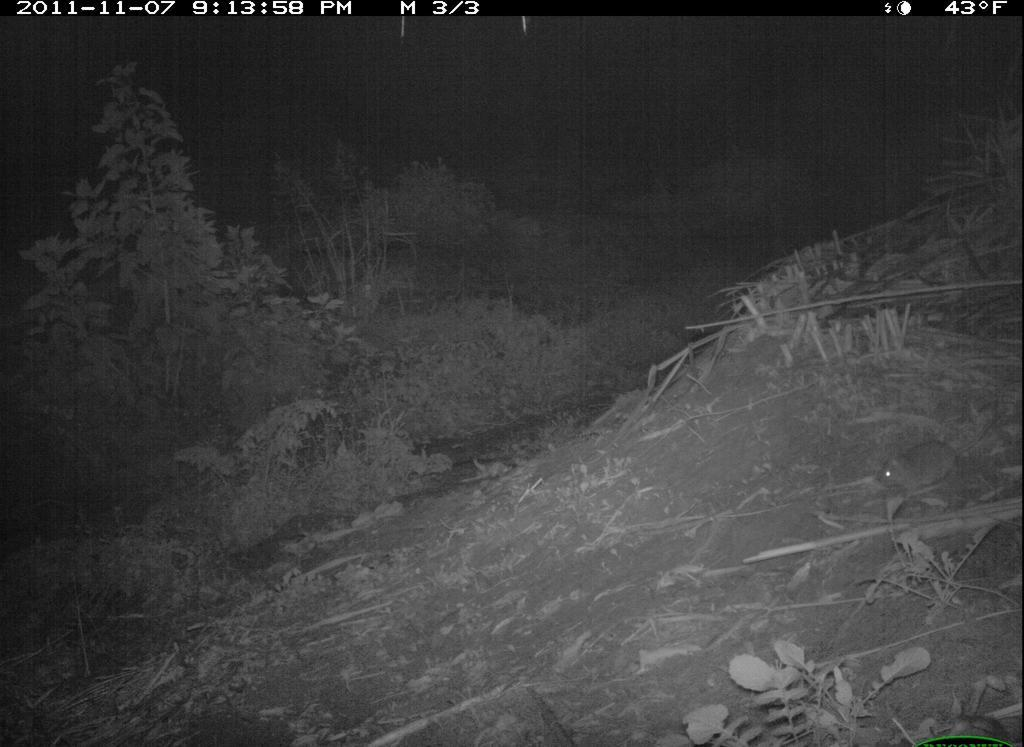rodent: (870, 424, 969, 518)
